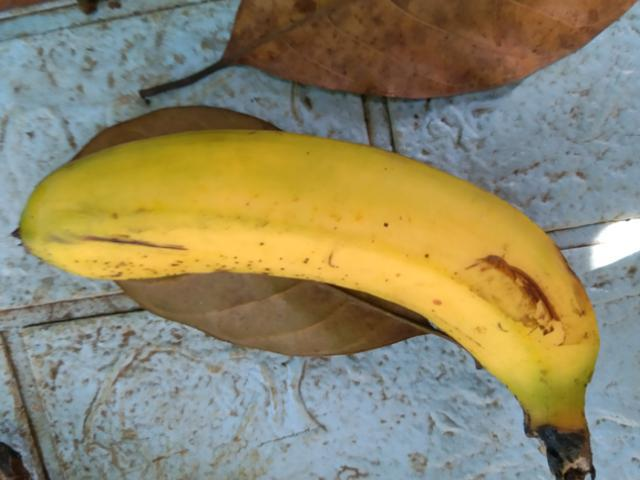ripe: (17, 102, 638, 443)
